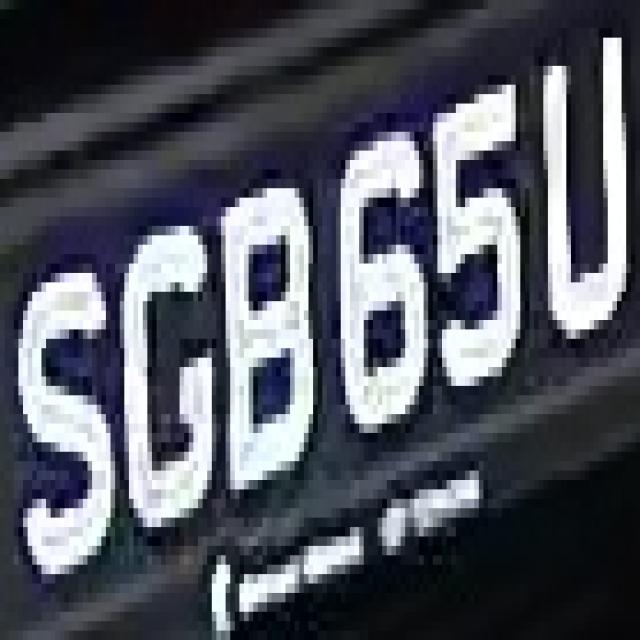5: (419, 47, 529, 405)
6: (331, 104, 433, 461)
B: (207, 170, 322, 518)
G: (115, 198, 230, 555)
S: (14, 216, 120, 612)
U: (530, 9, 636, 339)
